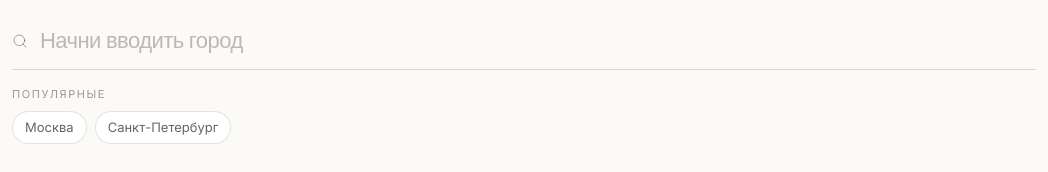
Scenario: CityPicker › hides the alert again after a successful retry
The image size is (1048, 172).
In the field: (524, 41) left=12, top=12, right=1036, bottom=70, type "Мос"
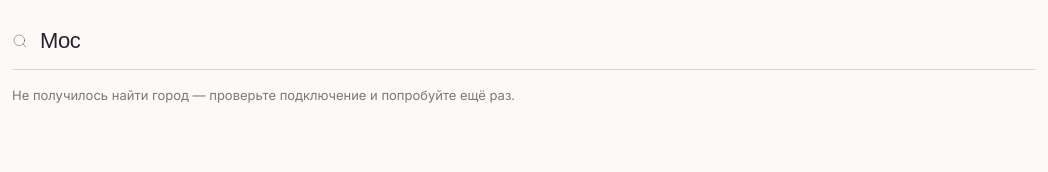
Result: the message "Не получилось найти город — проверьте подключение и попробуйте ещё раз." is shown at left=12, top=87, right=515, bottom=103
Replace the text in the field with "Моск": (524, 41) left=12, top=12, right=1036, bottom=70
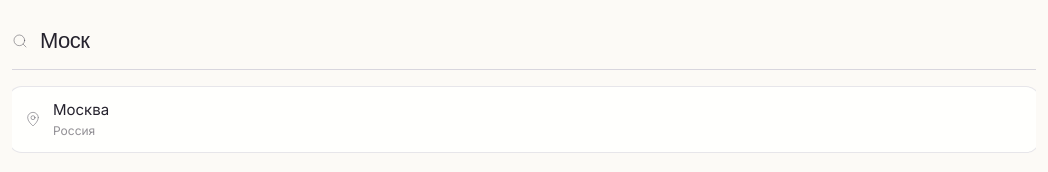
Result: the message "Не получилось найти город — проверьте подключение и попробуйте ещё раз." is gone
Result: the text "Москва" is shown at left=53, top=100, right=109, bottom=119
